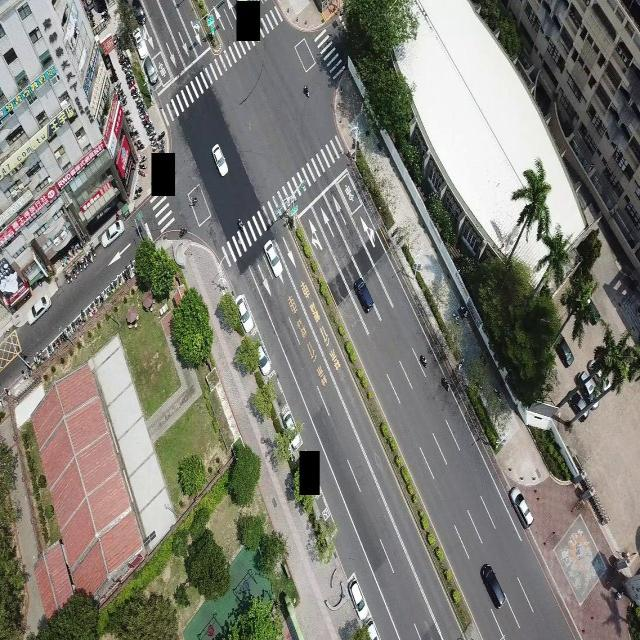bike: (440, 375, 451, 393), (304, 84, 314, 101), (236, 216, 246, 233), (188, 195, 200, 208), (420, 352, 428, 369), (179, 228, 189, 240)
car: (480, 562, 504, 607), (508, 487, 532, 528), (348, 574, 366, 618), (236, 295, 255, 335), (353, 273, 372, 312), (265, 240, 283, 278), (101, 217, 123, 247), (213, 144, 228, 176), (141, 56, 158, 84)
